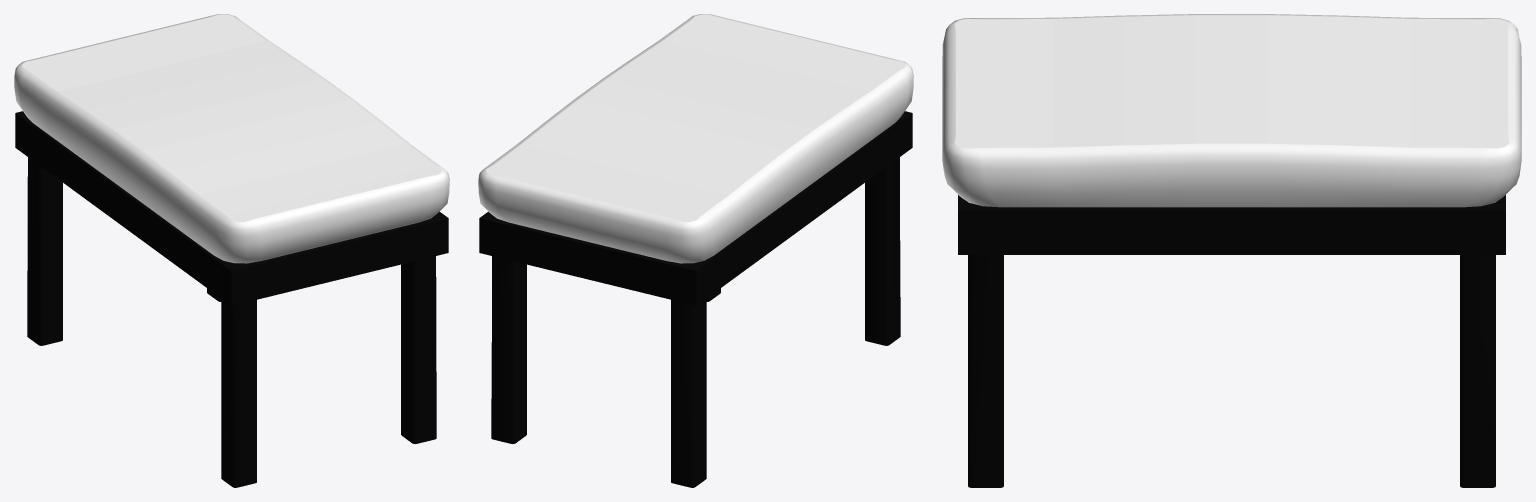
The model's file is banco.obj.
The picture shows the model from 3 angles, left to right: view 1: azimuth 30°, elevation 25°; view 2: azimuth 150°, elevation 25°; view 3: azimuth 270°, elevation 25°; orthographic projection. The views are drawn at different scales.
Visible parts, largest first — view 1: Sgabello2, Sgabello1; view 2: Sgabello2, Sgabello1; view 3: Sgabello2, Sgabello1.
Boxes of the visible parts, left/top/right/bottom form: Sgabello2: left=14, top=14, right=449, bottom=263; Sgabello1: left=15, top=111, right=448, bottom=487; Sgabello2: left=478, top=14, right=913, bottom=263; Sgabello1: left=479, top=111, right=912, bottom=487; Sgabello2: left=942, top=14, right=1521, bottom=207; Sgabello1: left=958, top=195, right=1505, bottom=487.
Size of the model in its own units: 0.3213 by 0.3653 by 0.5547.
Materials: 2 (2 with a texture image).
